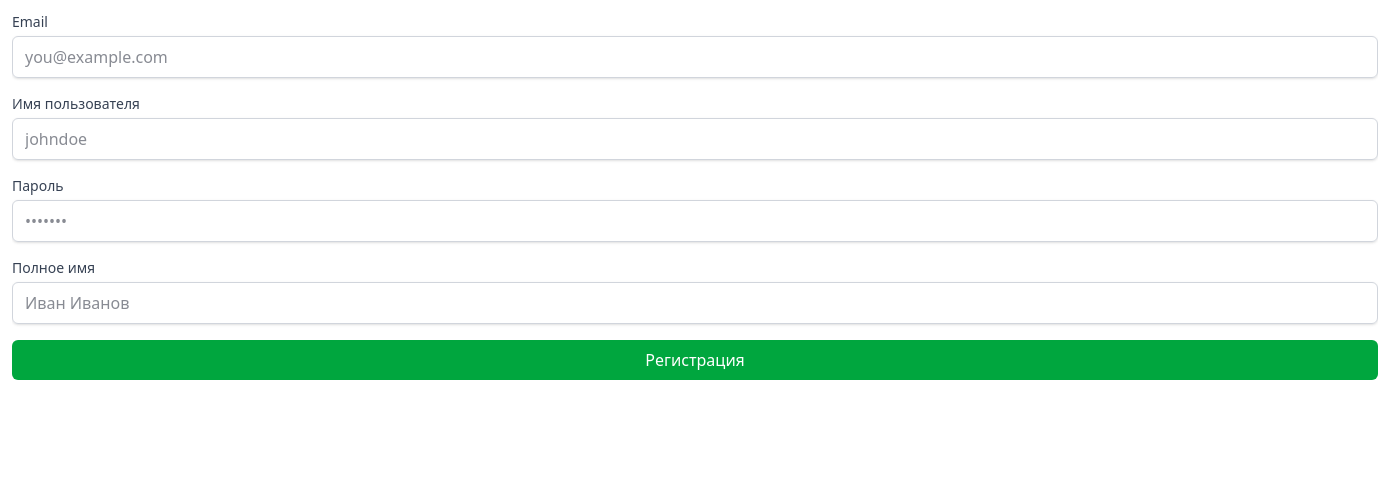
Test: RegisterForm › should show validation errors when submitting empty form
Click the button "Регистрация".
click(695, 360)  # box [12,340,1378,380]
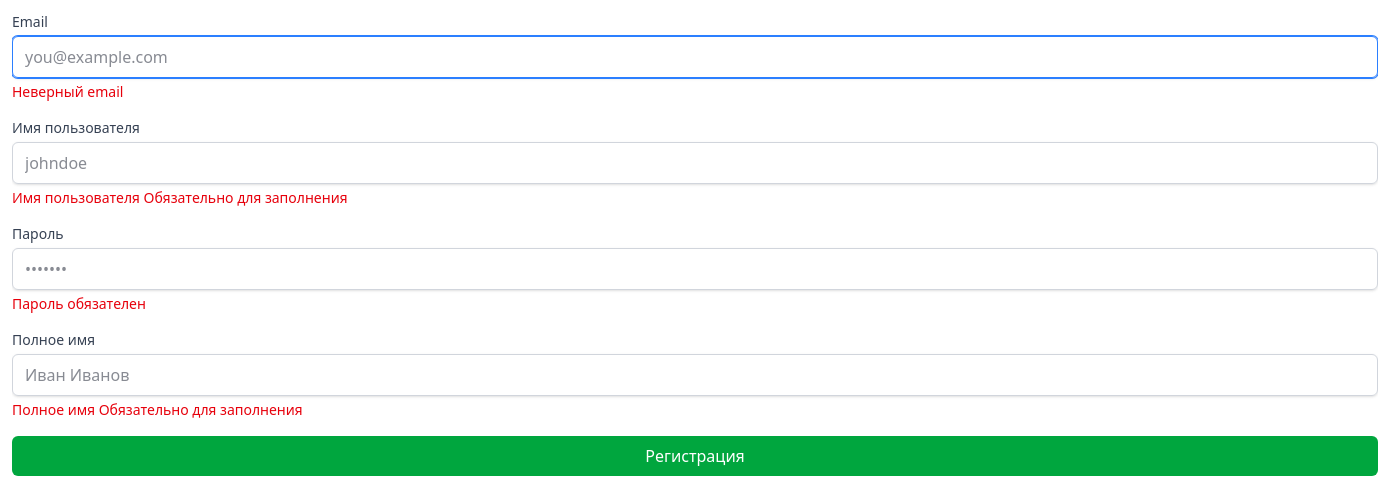
Check: the text "Неверный email" is shown, box [12,82,123,101]
Check: the text "Имя пользователя Обязательно для заполнения" is shown, box [12,188,348,207]
